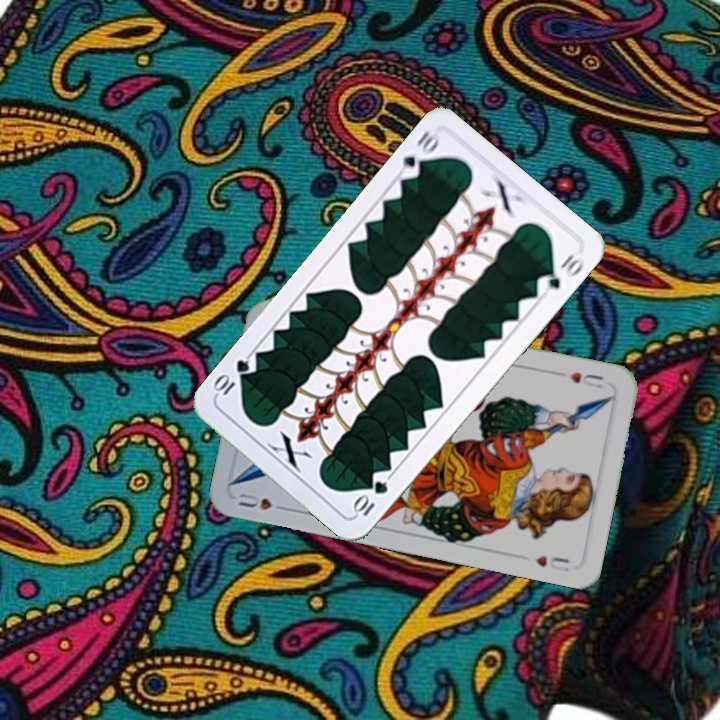G10: (398, 126, 442, 183), (348, 476, 391, 519)
HU: (234, 489, 291, 514), (564, 367, 606, 391)
